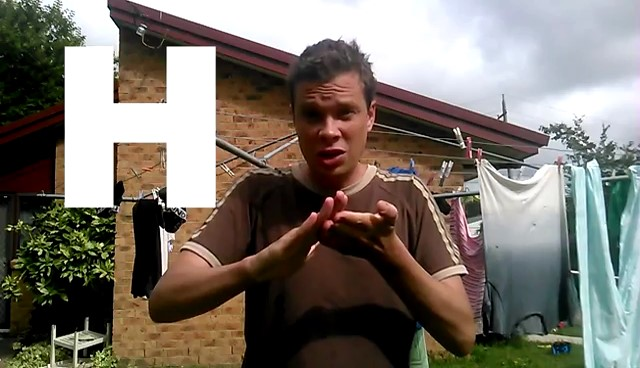H: (247, 182, 406, 289)
